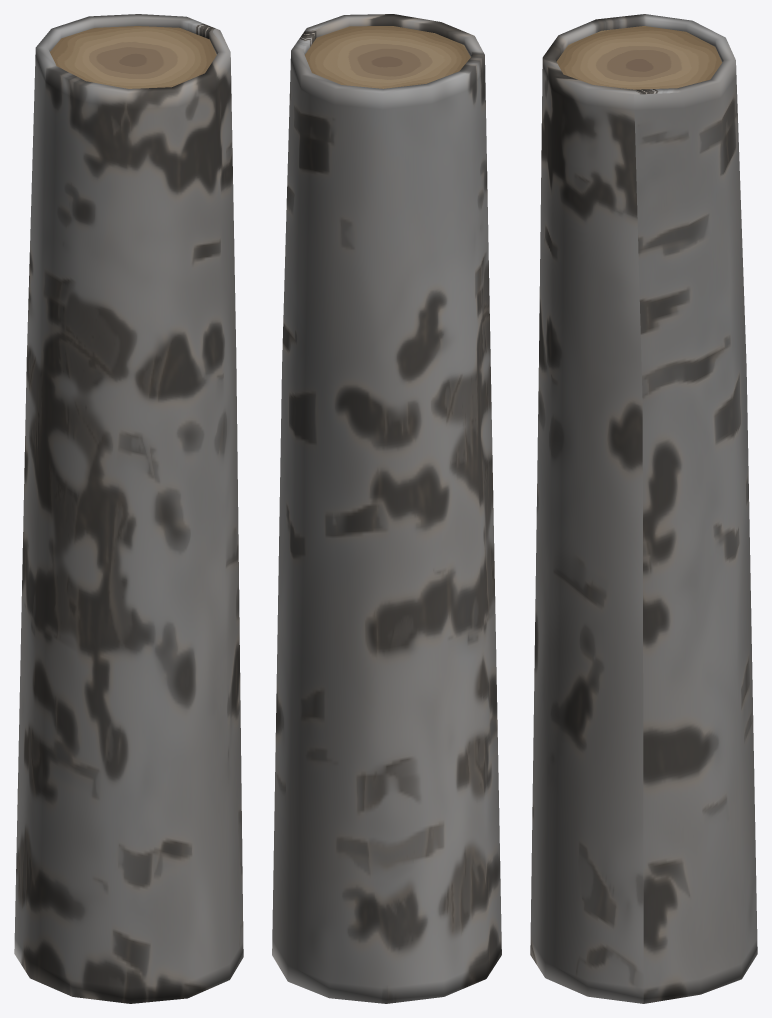
File: tree04_log_small.fbx
The picture shows the model from 3 angles, left to right: view 1: azimuth 30°, elevation 25°; view 2: azimuth 150°, elevation 25°; view 3: azimuth 270°, elevation 25°; orthographic projection.
Visible parts, largest first — view 1: Cylinder.016; view 2: Cylinder.016; view 3: Cylinder.016.
Boxes of the visible parts, x1,y1,x2,y2 form: Cylinder.016: [14, 14, 243, 1003]; Cylinder.016: [272, 14, 501, 1003]; Cylinder.016: [530, 14, 757, 1003].
Size of the model in its own units: 17.45 by 76.48 by 17.45.
